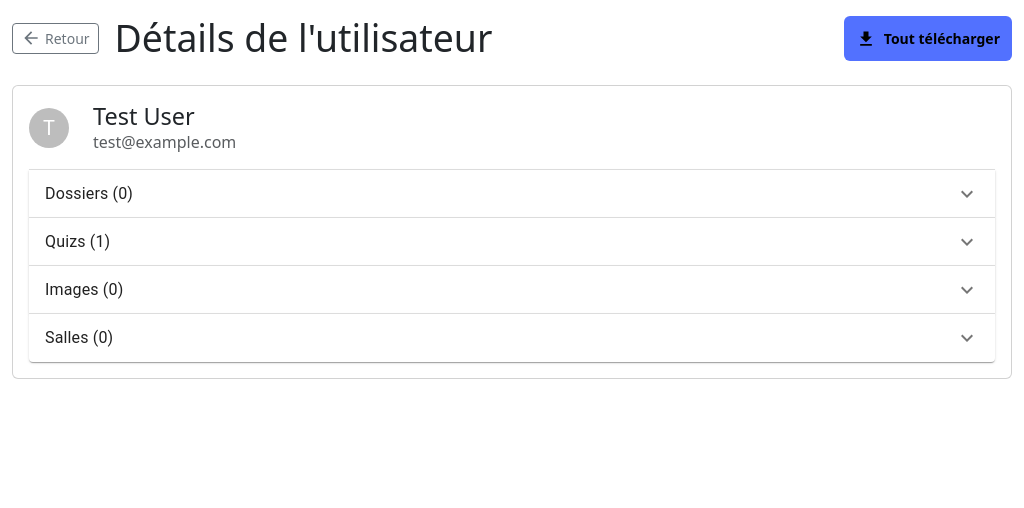
AdminUserDetails › quiz links navigate to editor
This screenshot has width=1024, height=508.
// Expand the quizzes accordion
Click the button "Quizs (1)".
click(70, 242)  # box [29, 218, 995, 266]
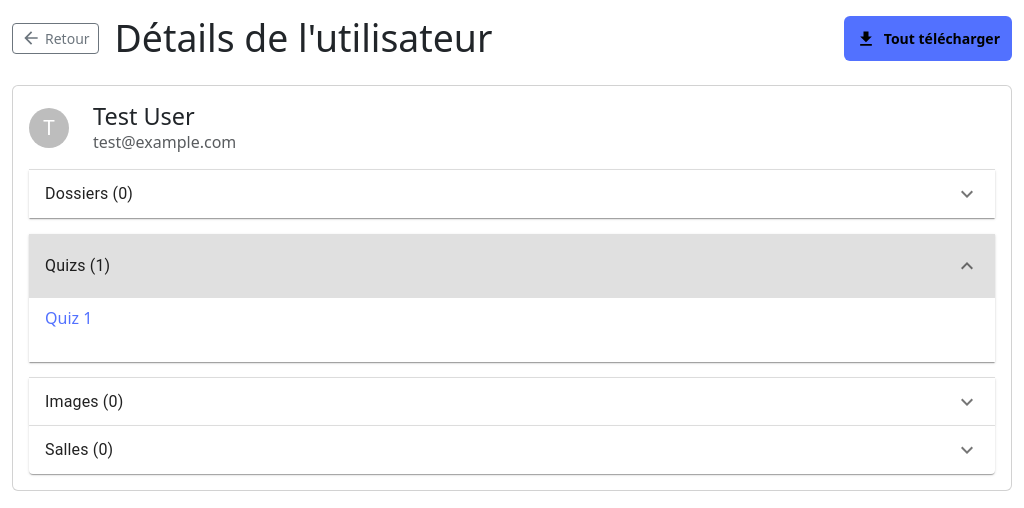
Now the link "Quiz 1" is shown, box [45, 307, 92, 329]
